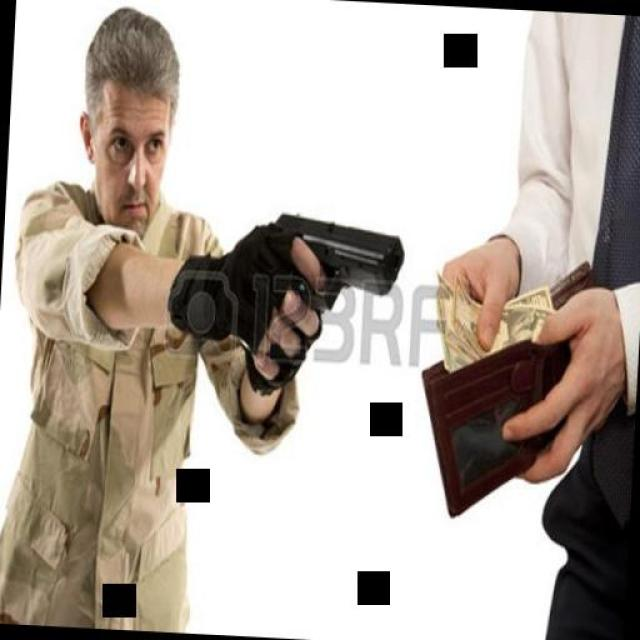gun: (242, 202, 403, 380)
